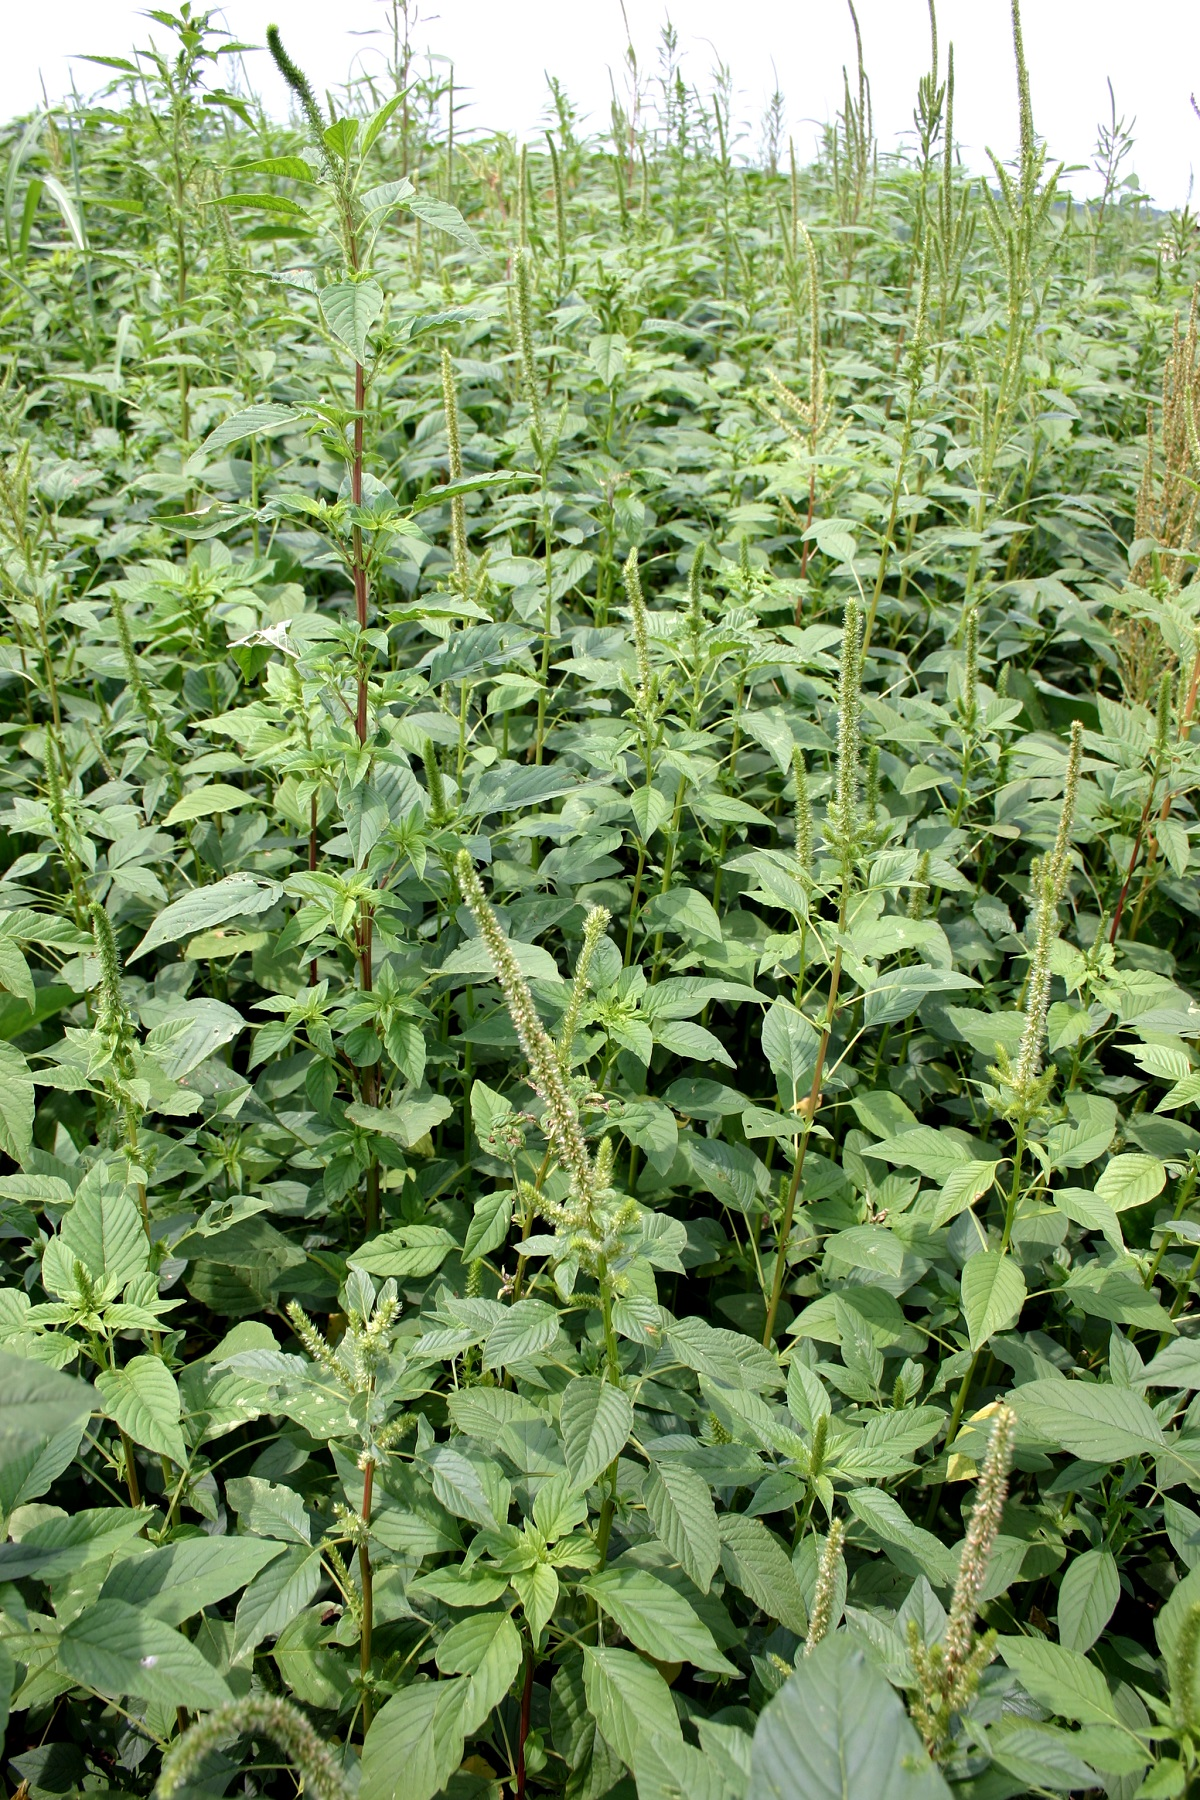Redroot Pigweed: (437, 838, 636, 1296), (966, 711, 1110, 1102), (908, 1387, 1059, 1709), (801, 575, 887, 895)
